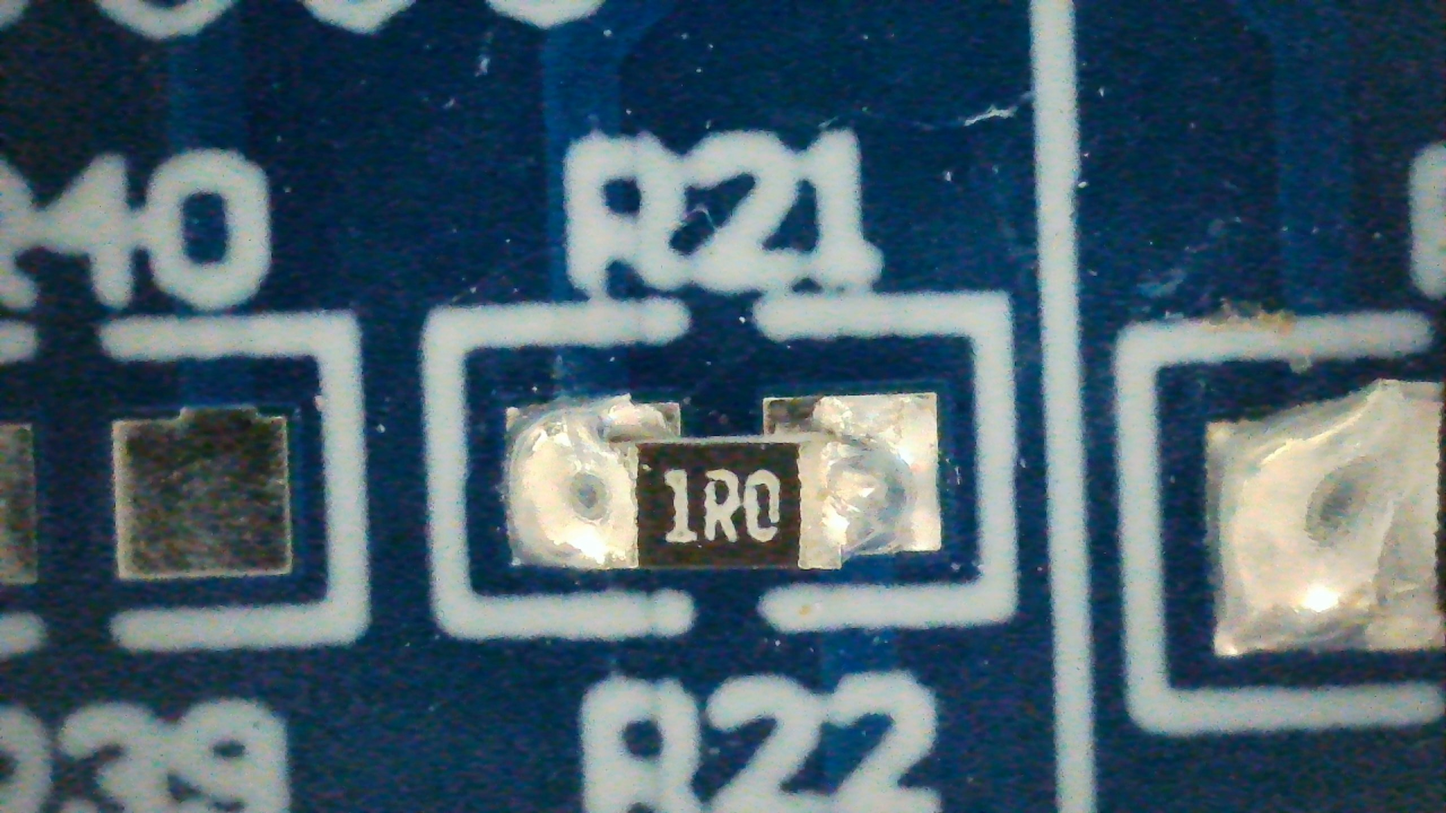NG: (506, 393, 940, 570)
